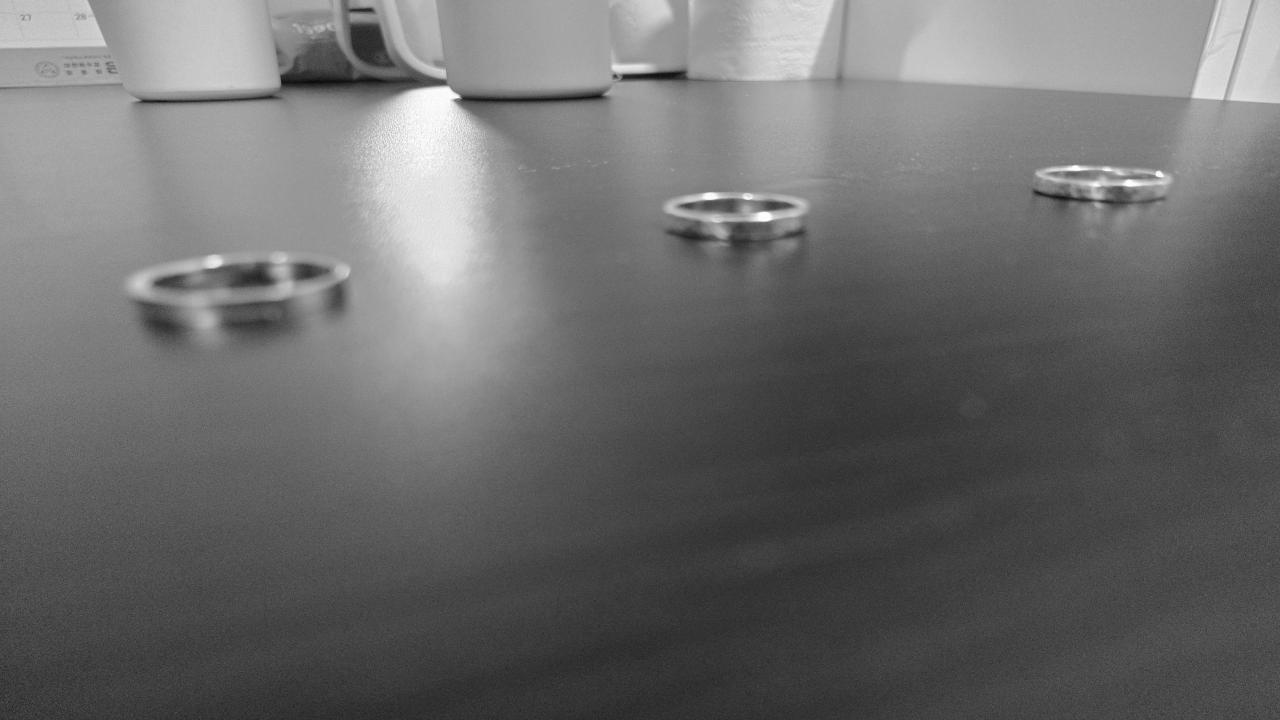ring: (124, 249, 355, 327), (661, 191, 814, 241), (1031, 164, 1173, 204)
